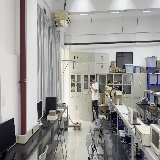fire: (75, 111, 80, 124)
